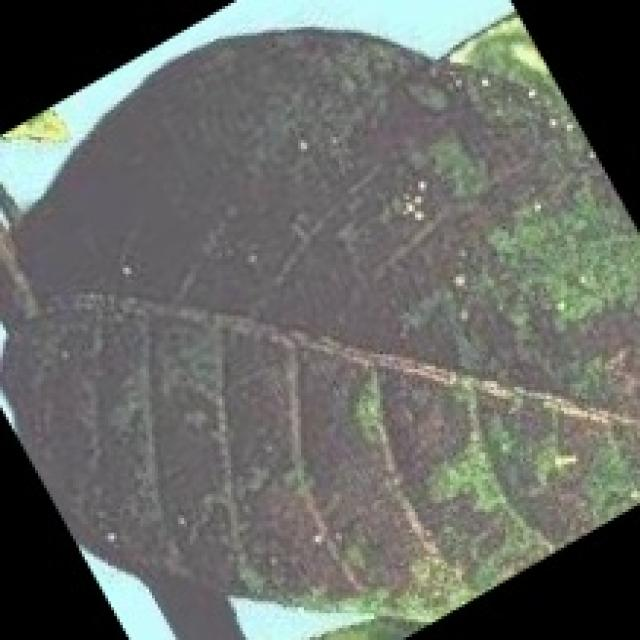Sooty Mold: (0, 18, 637, 637)
